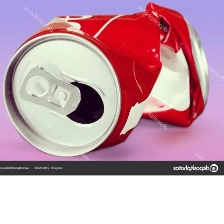can: (1, 0, 210, 159)
